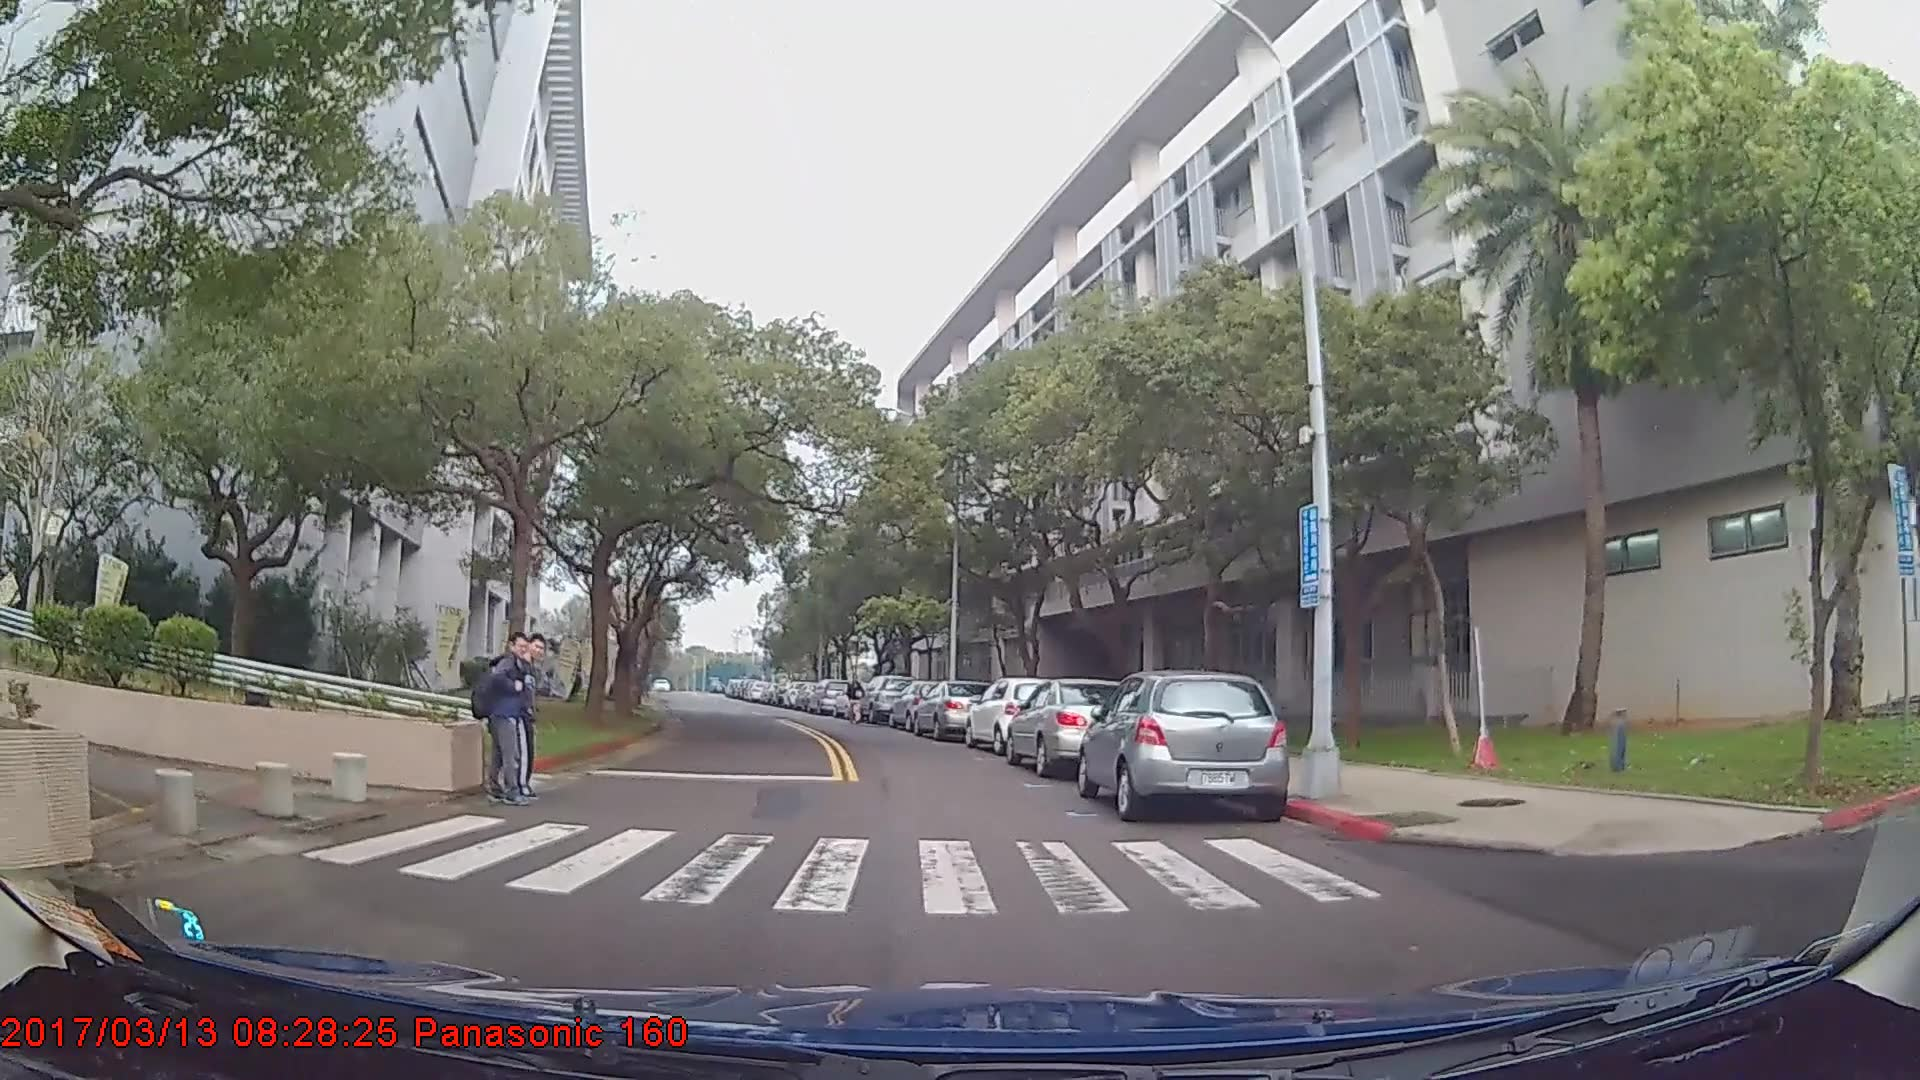pedestrian: (468, 628, 540, 816), (849, 675, 869, 726)
vehicle: (1077, 671, 1291, 826), (1004, 678, 1139, 779), (962, 676, 1062, 756), (911, 678, 997, 741), (856, 672, 916, 722), (806, 677, 849, 715)
